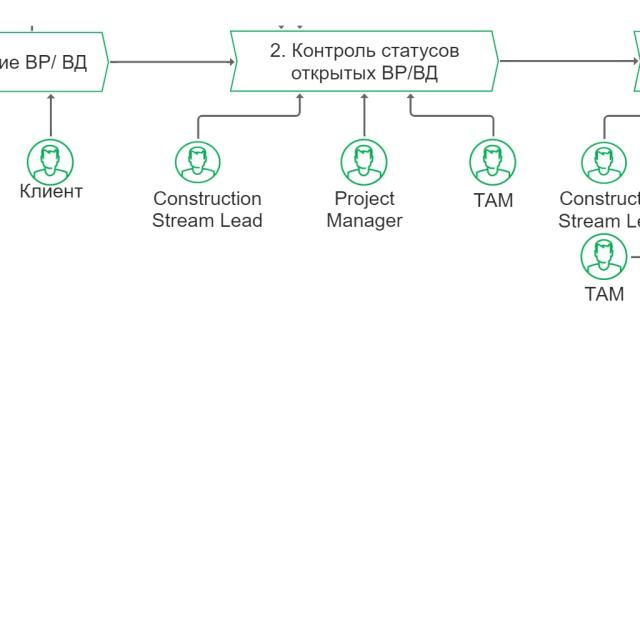arrow: (197, 94, 303, 139), (404, 93, 499, 137), (108, 54, 237, 69), (500, 56, 639, 66), (359, 92, 368, 138), (46, 95, 54, 137)
circle: (172, 138, 223, 186), (339, 138, 389, 186), (27, 139, 73, 185), (470, 139, 516, 185), (581, 234, 628, 279), (582, 142, 626, 183)
rectangle: (231, 28, 501, 91)
text_region: (150, 189, 265, 231), (326, 189, 403, 231), (16, 182, 84, 202), (472, 191, 517, 209), (585, 283, 625, 302)
